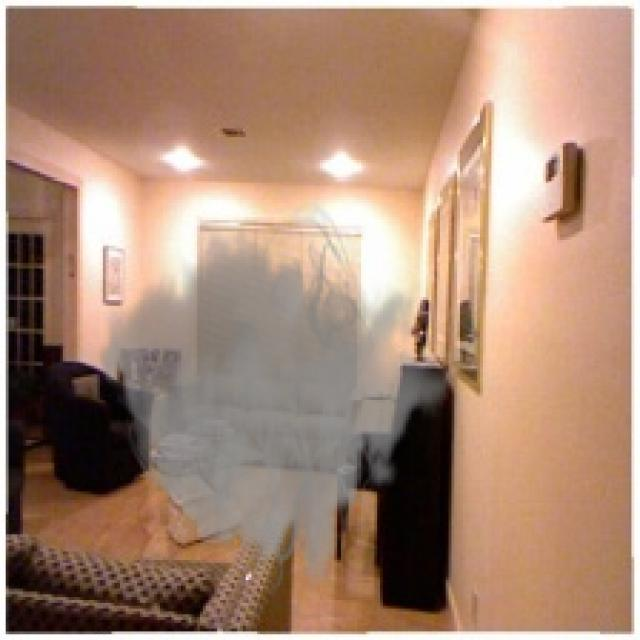smoke: (97, 197, 452, 600)
